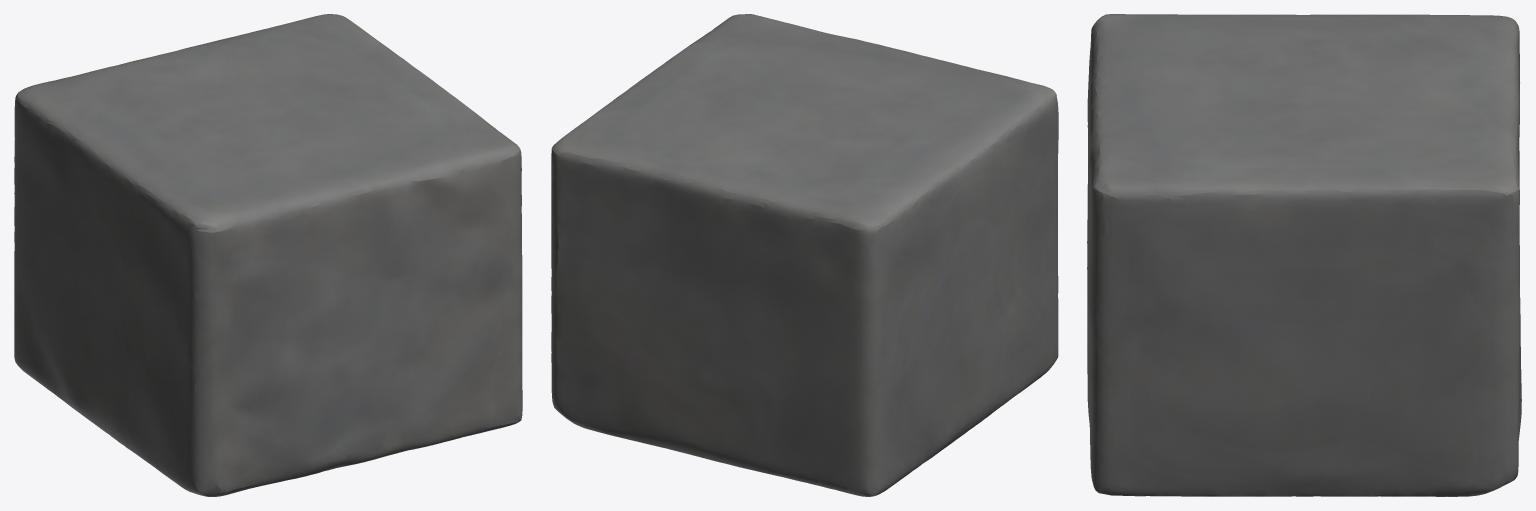
3 renders of one model, left to right at view 1: azimuth 30°, elevation 25°; view 2: azimuth 150°, elevation 25°; view 3: azimuth 270°, elevation 25°, orthographic. The views are drawn at different scales.
Parts seen in each view (by area): view 1: Mesh; view 2: Mesh; view 3: Mesh.
Boxes of the visible parts, x1=… form: Mesh: x1=14, y1=14, x2=522, y2=496; Mesh: x1=551, y1=14, x2=1058, y2=496; Mesh: x1=1087, y1=14, x2=1521, y2=496.
Size of the model in its own units: 1.86 by 1.48 by 1.85.
1 material, 1 textured.
